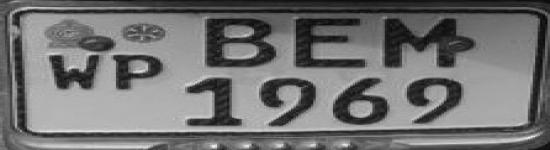1: (175, 74, 249, 128)
6: (327, 73, 399, 127)
9: (402, 73, 480, 127), (254, 73, 325, 128)
B: (195, 14, 283, 72)
E: (288, 15, 369, 71)
M: (375, 15, 470, 73)
P: (108, 52, 164, 94)
W: (35, 49, 107, 93)
